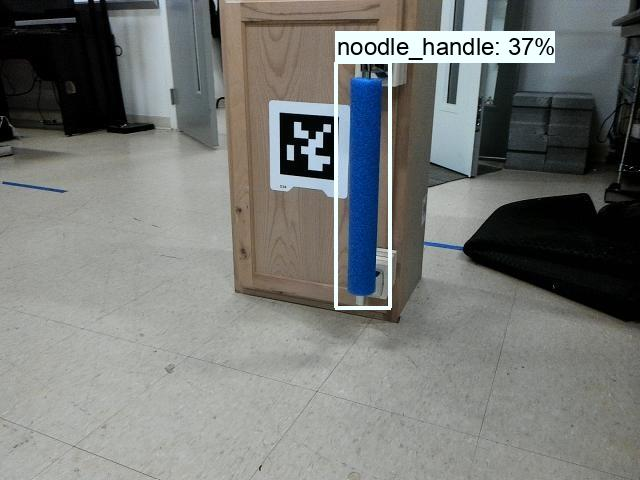noodle_handle: (336, 68, 392, 299)
